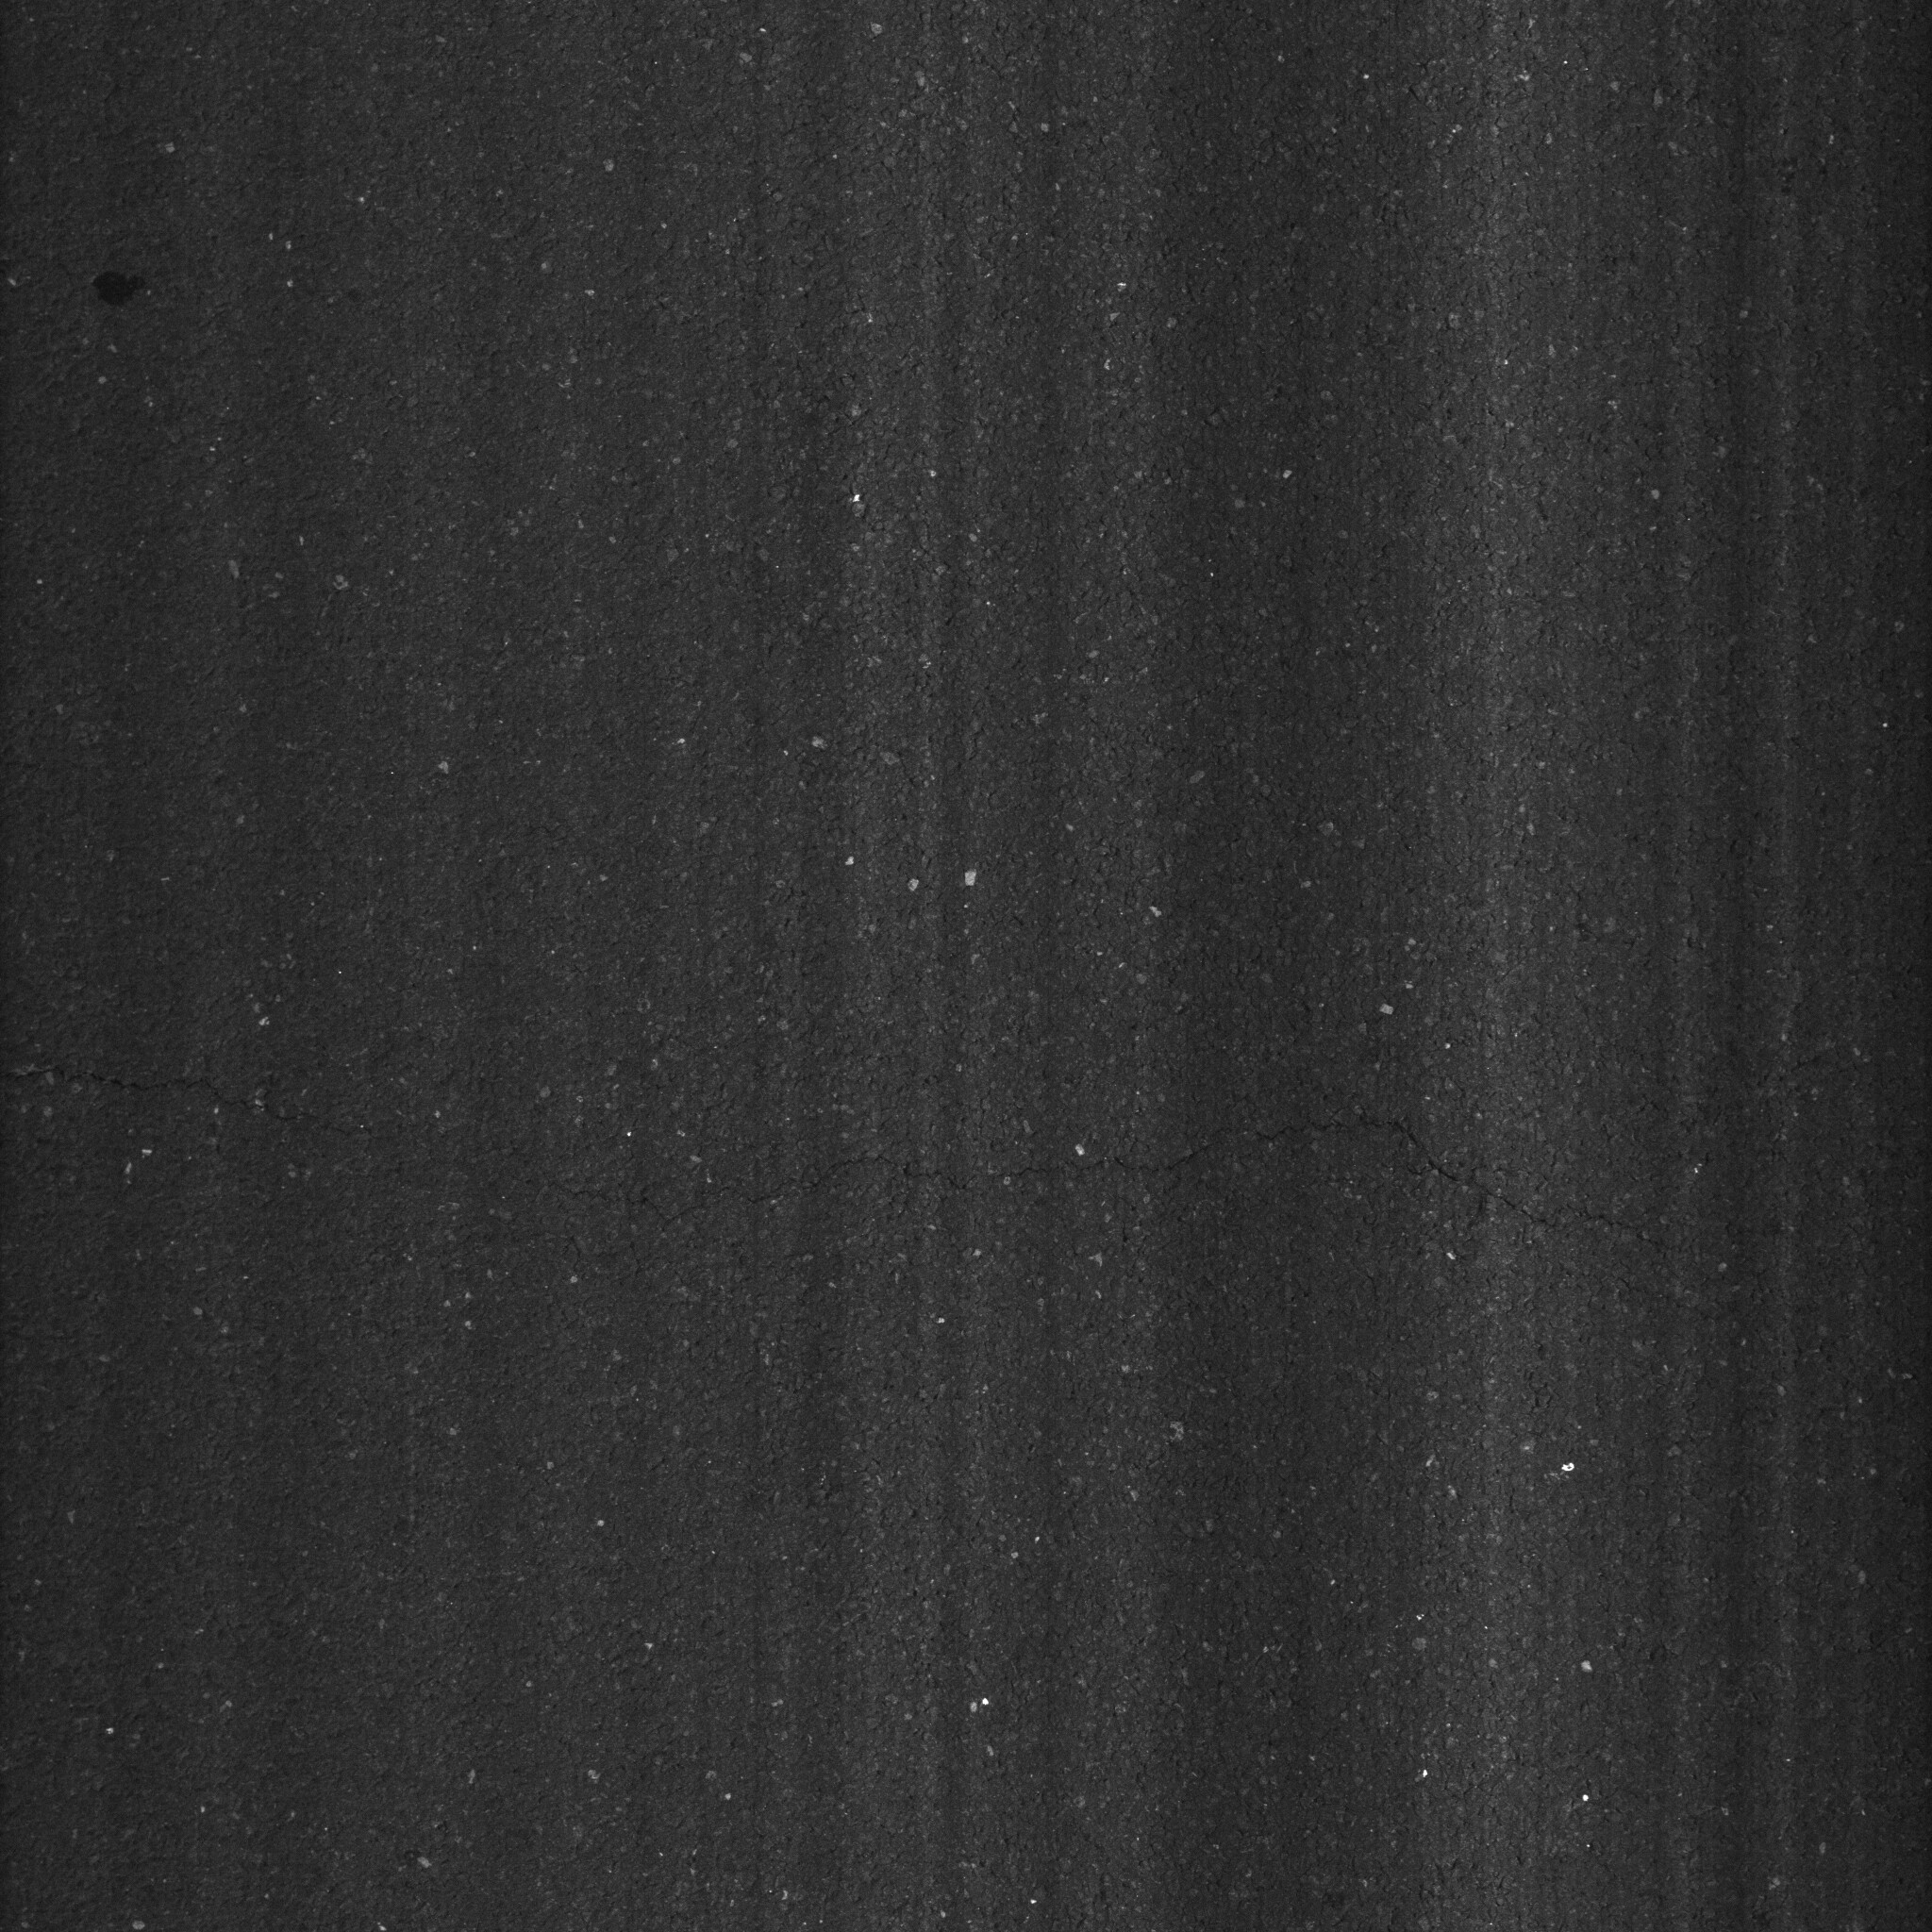transeverse: (32, 1049, 1709, 1269)
